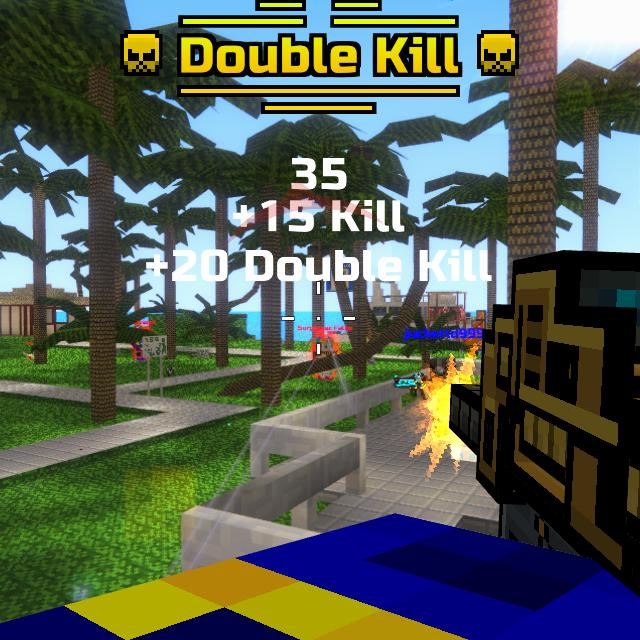Enemy: (312, 336, 336, 378)
